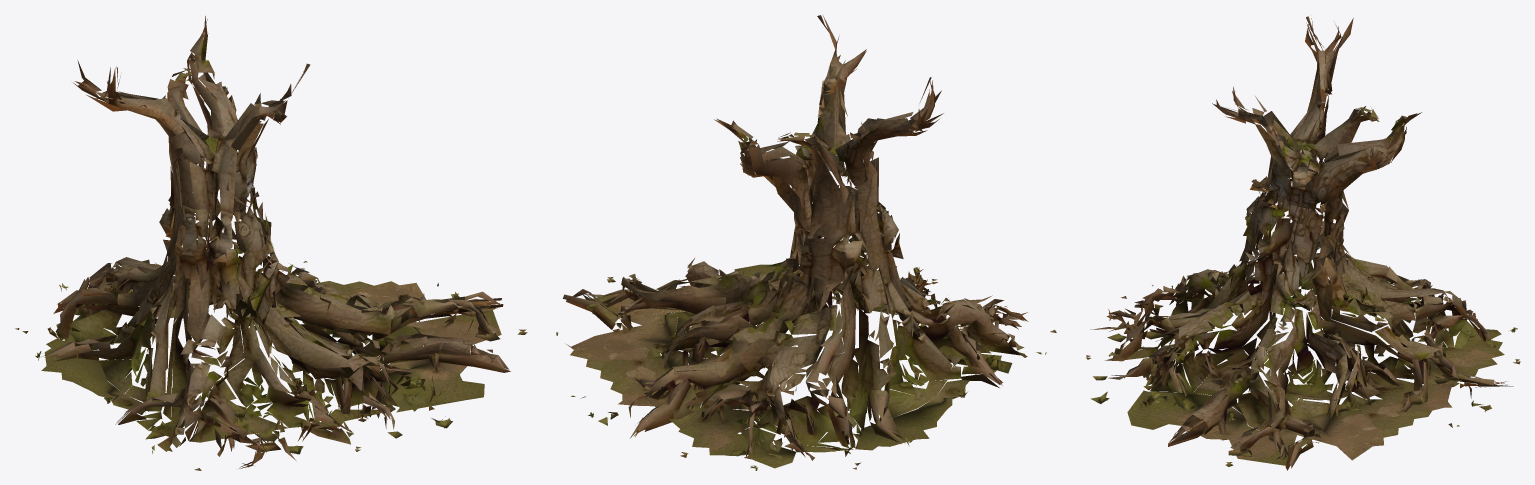
File: jun_giant_surface_roots_a_LOD2.glb
3 views of the same model, side by side, from view 1: azimuth 30°, elevation 25°; view 2: azimuth 150°, elevation 25°; view 3: azimuth 270°, elevation 25° (orthographic). The views are drawn at different scales.
Visible parts, largest first — view 1: tripo_node_d526340f-c0b6-4e44-b6e3-9aaa0535eabd; view 2: tripo_node_d526340f-c0b6-4e44-b6e3-9aaa0535eabd; view 3: tripo_node_d526340f-c0b6-4e44-b6e3-9aaa0535eabd.
Boxes of the visible parts, box(x1,y1,x2,y2) form: tripo_node_d526340f-c0b6-4e44-b6e3-9aaa0535eabd: box(15, 16, 527, 470); tripo_node_d526340f-c0b6-4e44-b6e3-9aaa0535eabd: box(556, 15, 1056, 470); tripo_node_d526340f-c0b6-4e44-b6e3-9aaa0535eabd: box(1086, 16, 1520, 470).
Bounding box in the file's own units: 0.9764 × 0.7483 × 0.987.
Materials: 1 (1 with a texture image).
